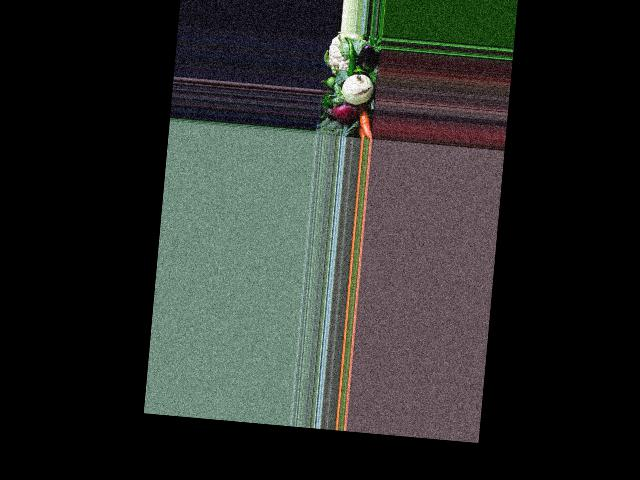carrot: (353, 109, 376, 140)
